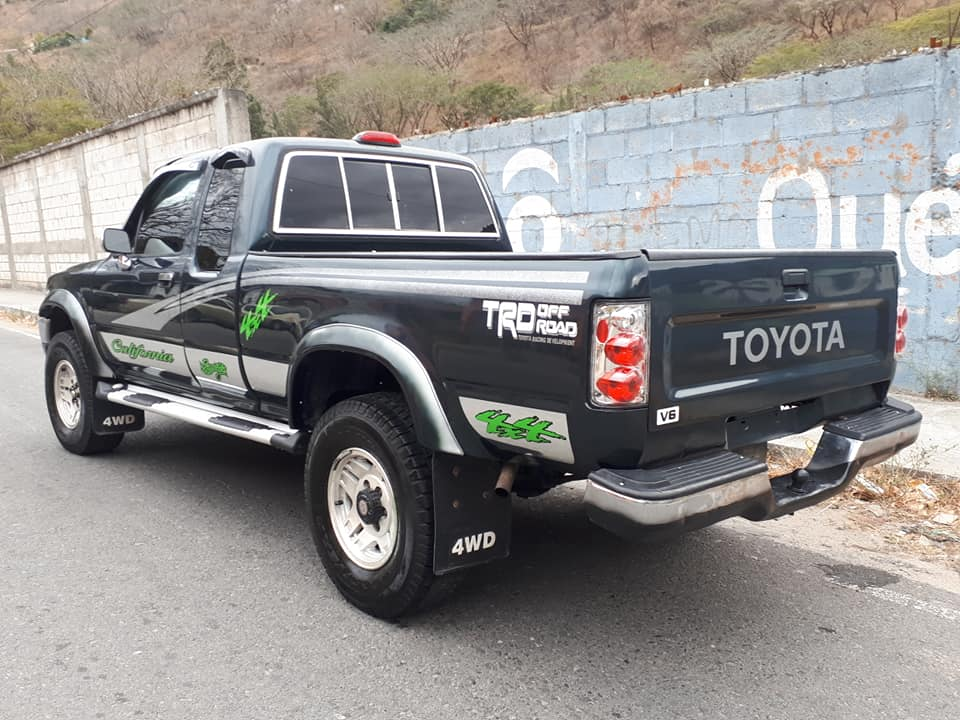pickup: (39, 129, 925, 620)
